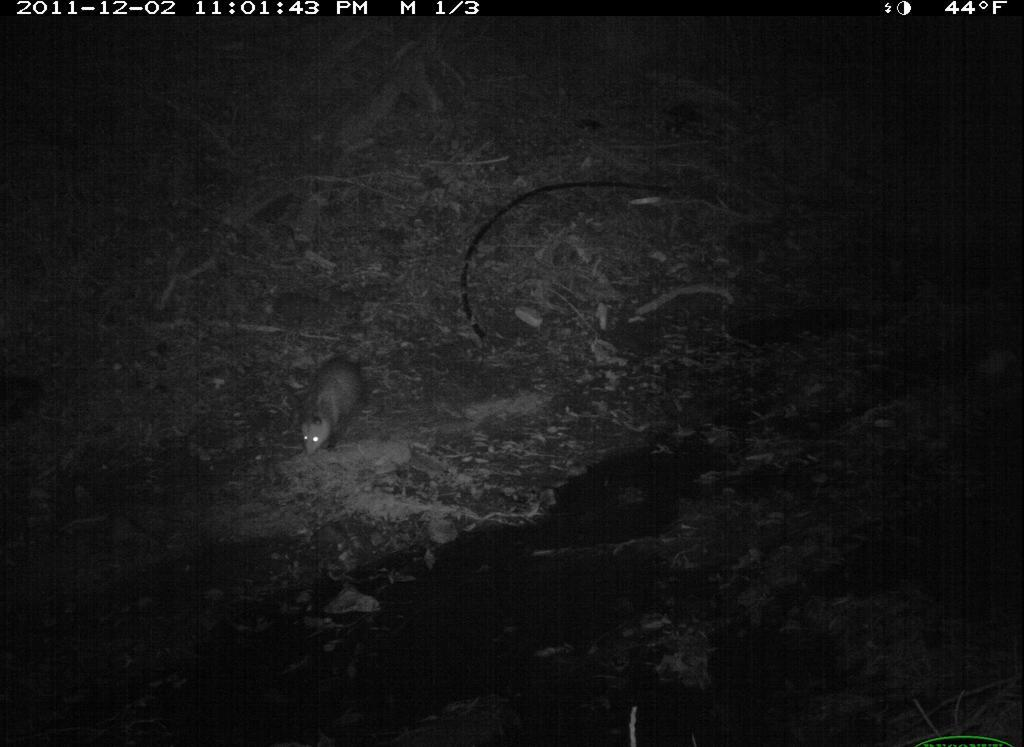opossum: (295, 346, 373, 465)
